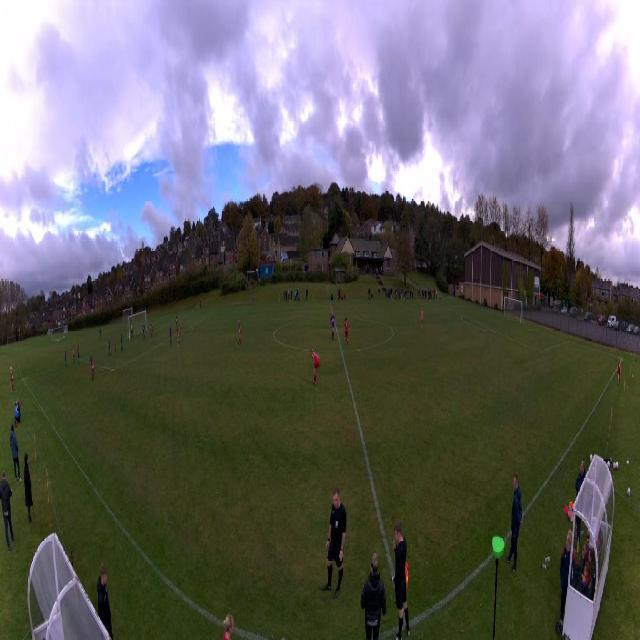player: (319, 486, 347, 598), (309, 348, 321, 387), (330, 313, 336, 339), (345, 317, 349, 344), (238, 320, 242, 345), (91, 357, 95, 381), (142, 322, 146, 339), (178, 325, 181, 347), (77, 345, 80, 366), (420, 309, 423, 329), (89, 351, 93, 366), (64, 350, 67, 369), (120, 332, 123, 351), (169, 325, 172, 344), (108, 338, 111, 356), (72, 346, 75, 364), (130, 323, 133, 339), (149, 321, 152, 337), (114, 335, 116, 354), (180, 315, 182, 331), (151, 321, 153, 337), (176, 316, 178, 331)
